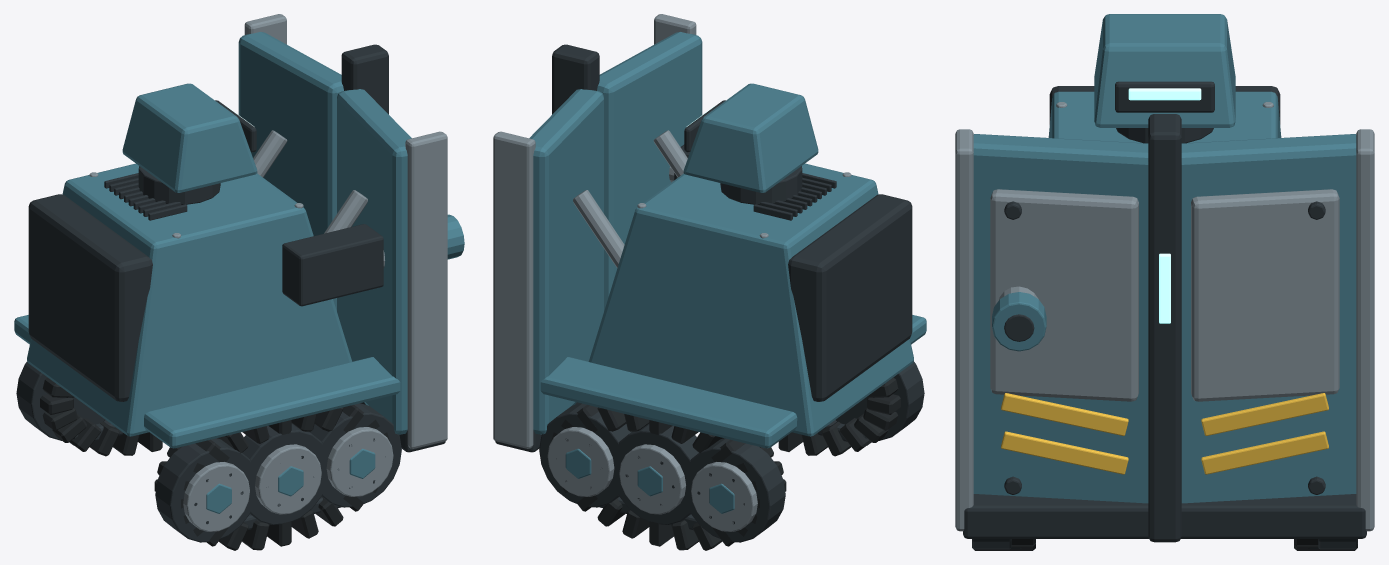
Rendered from Anchor.glb.
The picture shows the model from 3 angles, left to right: view 1: azimuth 30°, elevation 25°; view 2: azimuth 150°, elevation 25°; view 3: azimuth 270°, elevation 25°; orthographic projection. The views are drawn at different scales.
Visible parts, largest first — view 1: SM_Anchor_Body, SM_Anchor_Shield, SM_Anchor_Sensor, SM_Anchor_WheelRearL, SM_Anchor_Weapon, SM_Anchor_WheelMidL, SM_Anchor_WheelFrontL, SM_Anchor_WheelRearR; view 2: SM_Anchor_Body, SM_Anchor_Shield, SM_Anchor_Sensor, SM_Anchor_WheelRearR, SM_Anchor_WheelMidR, SM_Anchor_WheelFrontR, SM_Anchor_WheelRearL; view 3: SM_Anchor_Shield, SM_Anchor_Sensor, SM_Anchor_Body, SM_Anchor_Weapon.
Boxes of the visible parts, box(x1,y1,x2,y2) form: SM_Anchor_Body: box(14, 130, 400, 550); SM_Anchor_Shield: box(238, 14, 447, 452); SM_Anchor_Sensor: box(122, 83, 257, 204); SM_Anchor_WheelRearL: box(155, 438, 256, 542); SM_Anchor_Weapon: box(282, 214, 464, 306); SM_Anchor_WheelMidL: box(242, 423, 327, 524); SM_Anchor_WheelFrontL: box(309, 403, 401, 507); SM_Anchor_WheelRearR: box(16, 361, 105, 440); SM_Anchor_Body: box(540, 130, 926, 550); SM_Anchor_Shield: box(493, 14, 702, 452); SM_Anchor_Sensor: box(683, 83, 818, 204); SM_Anchor_WheelRearR: box(685, 438, 785, 542); SM_Anchor_WheelMidR: box(613, 423, 698, 524); SM_Anchor_WheelFrontR: box(539, 403, 631, 507); SM_Anchor_WheelRearL: box(836, 361, 924, 440); SM_Anchor_Shield: box(955, 114, 1374, 542); SM_Anchor_Sensor: box(1094, 14, 1235, 143); SM_Anchor_Body: box(972, 86, 1357, 550); SM_Anchor_Weapon: box(992, 286, 1046, 351).
Size of the model in its own units: 1.55 by 1.81 by 1.38.
